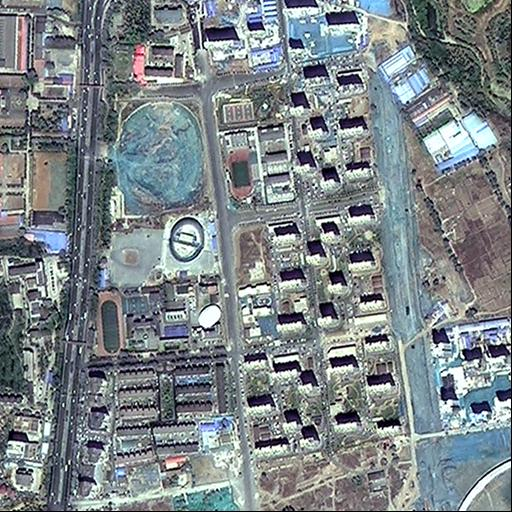school: (88, 276, 233, 353), (215, 118, 297, 213)
